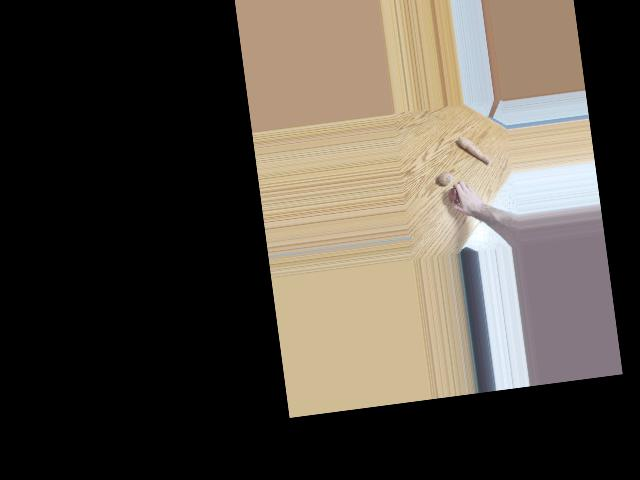onion: (440, 171, 453, 186)
